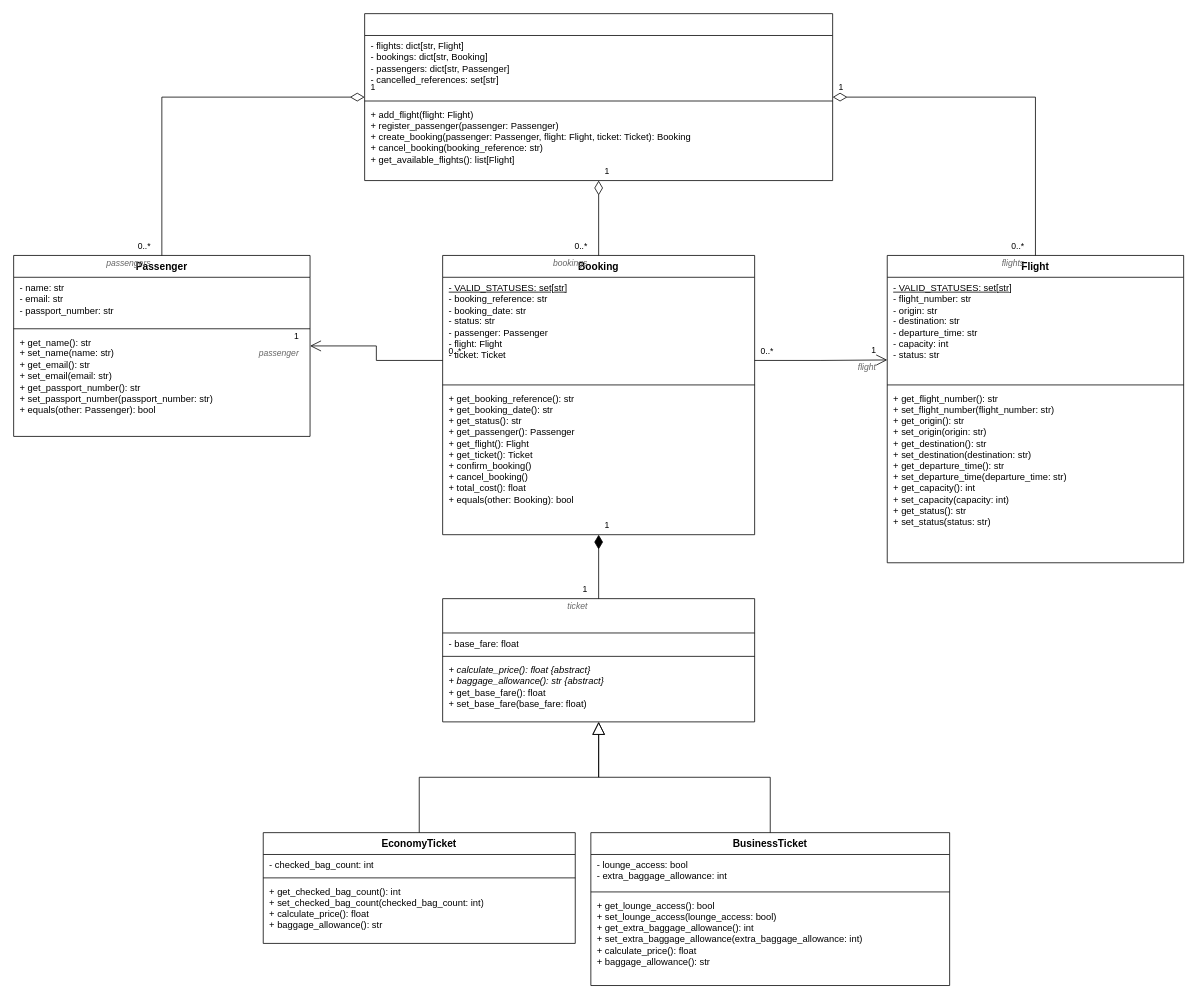
Image size: 1197x1002. Some labels were removed from this diagram. The box of each missing label's shape, as (x1, y1, x2, y2) in pixels:
BookingSystem: (364, 13, 833, 181)
«abstract» Ticket: (442, 598, 755, 722)
